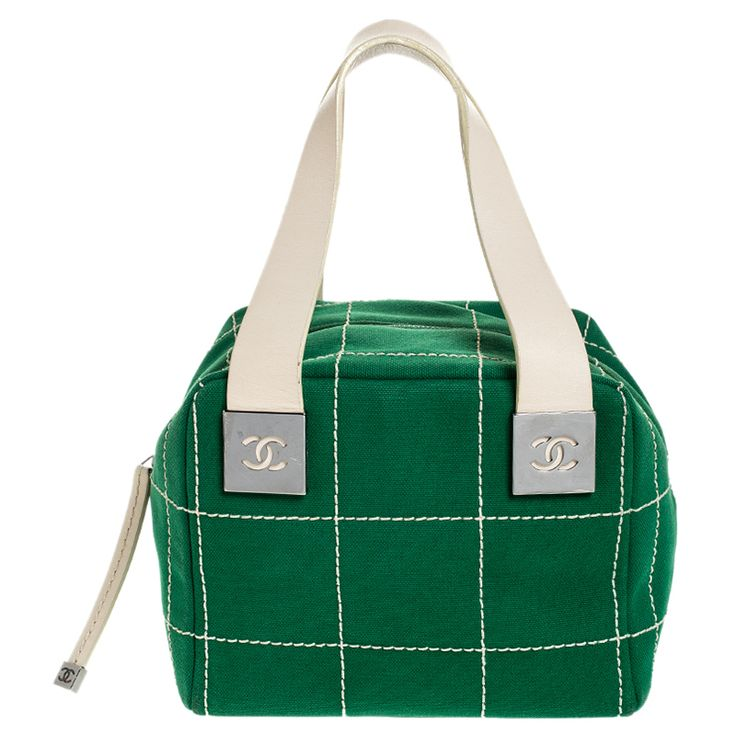nylon: (151, 18, 680, 718)
